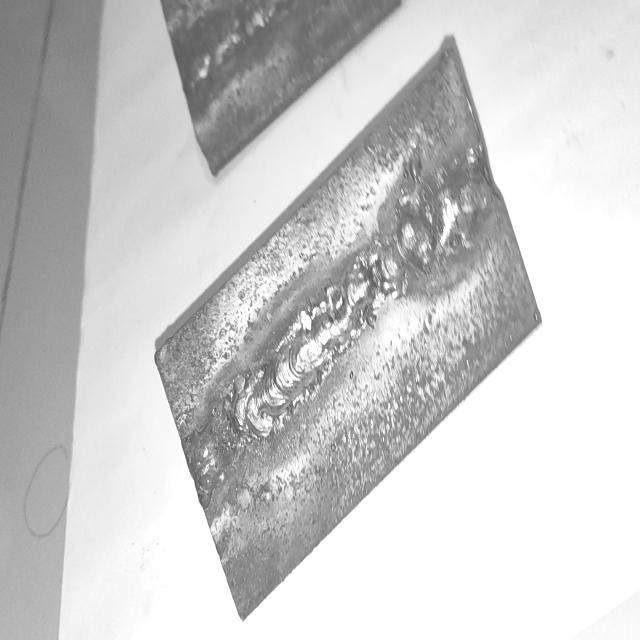Bad Weld: (178, 140, 491, 509)
Defect: (348, 156, 486, 316), (187, 381, 262, 489)
